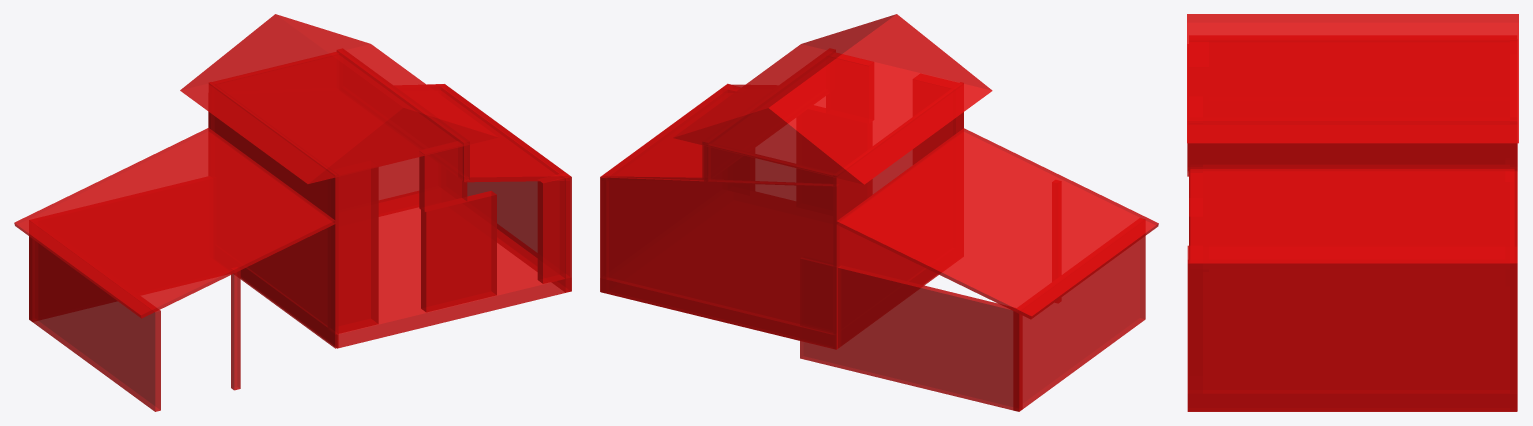
File: SM_Bld_FarmHouse_01_Collision.fbx
The picture shows the model from 3 angles, left to right: view 1: azimuth 30°, elevation 25°; view 2: azimuth 150°, elevation 25°; view 3: azimuth 270°, elevation 25°; orthographic projection. The views are drawn at different scales.
Parts seen in each view (by area): view 1: SM_Bld_FarmHouse_01_Collision; view 2: SM_Bld_FarmHouse_01_Collision; view 3: SM_Bld_FarmHouse_01_Collision.
Boxes of the visible parts, x1,y1,x2,y2 form: SM_Bld_FarmHouse_01_Collision: (14, 14, 571, 411); SM_Bld_FarmHouse_01_Collision: (600, 14, 1158, 411); SM_Bld_FarmHouse_01_Collision: (1187, 14, 1518, 411).
Size of the model in its own units: 1102 by 597 by 568.
